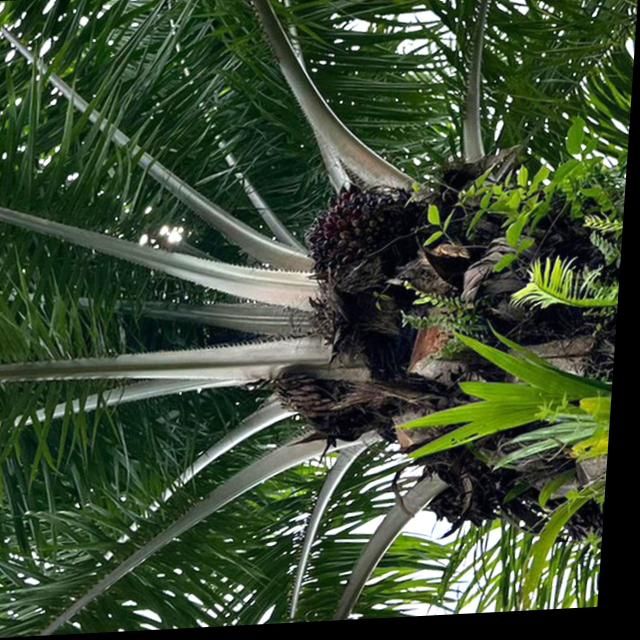ripe: (309, 184, 401, 286)
